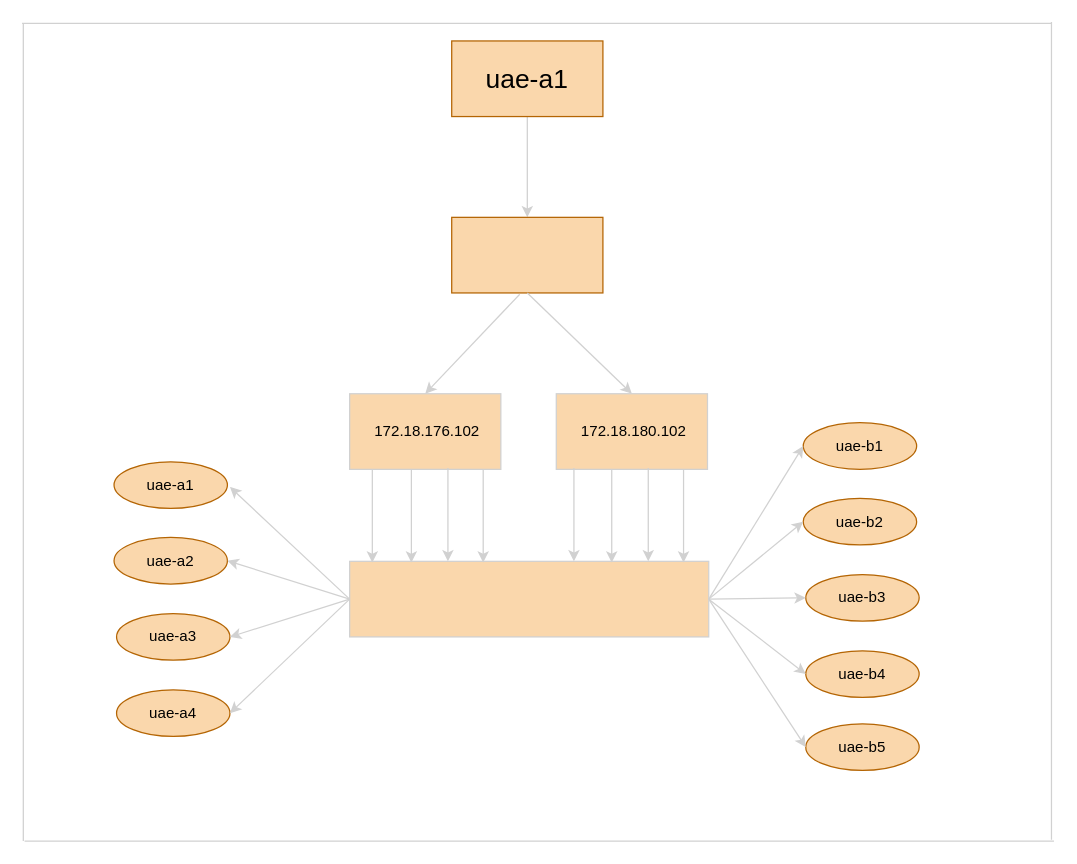
Image size: 1077x864. Some labels were removed from this diagram. Each missing label, with the centre of its shape:
.uae: (526,254)
2002:ac1f:91c5:1::7: (528,598)
